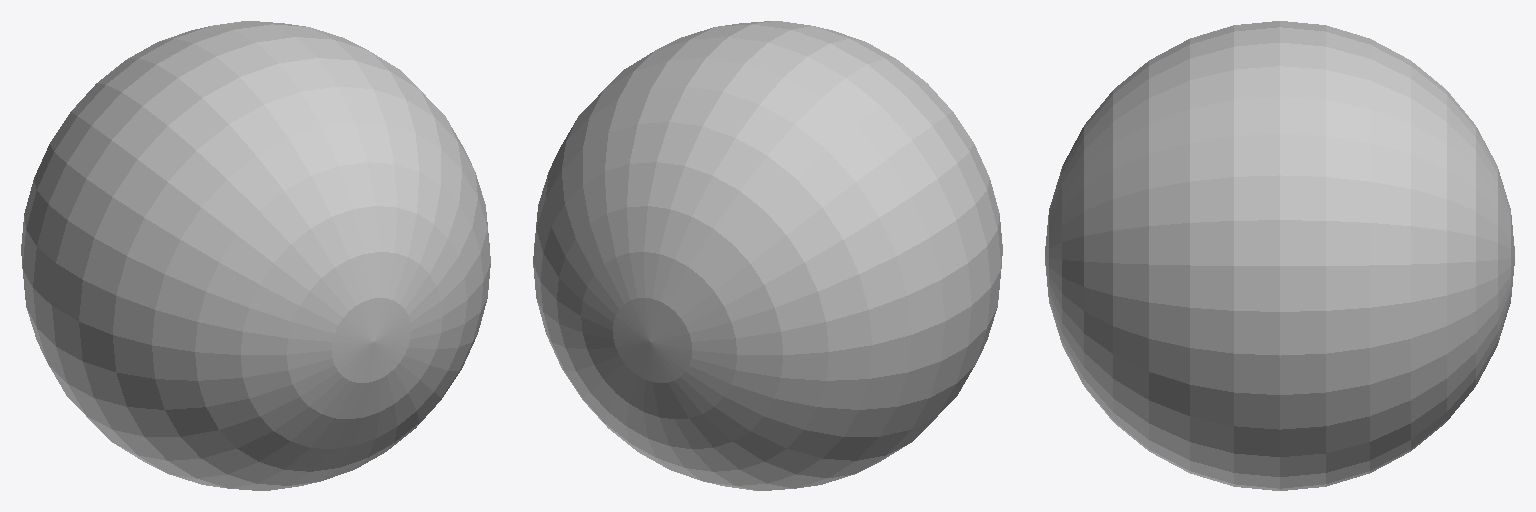
The model's file is SphereLowPoly.obj.
The picture shows the model from 3 angles: view 1: azimuth 30°, elevation 25°; view 2: azimuth 150°, elevation 25°; view 3: azimuth 270°, elevation 25°; orthographic projection.
Visible parts, largest first — view 1: Sphere001; view 2: Sphere001; view 3: Sphere001.
Boxes of the visible parts, <box> form: Sphere001: <box>21,21,490,490</box>; Sphere001: <box>533,21,1002,490</box>; Sphere001: <box>1045,21,1514,490</box>.
Size of the model in its own units: 96 by 96 by 96.